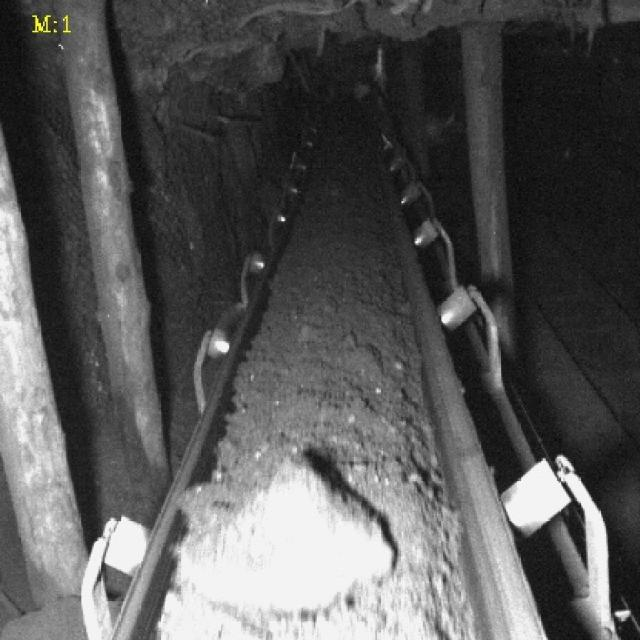large_sized_coal: (183, 455, 392, 614)
